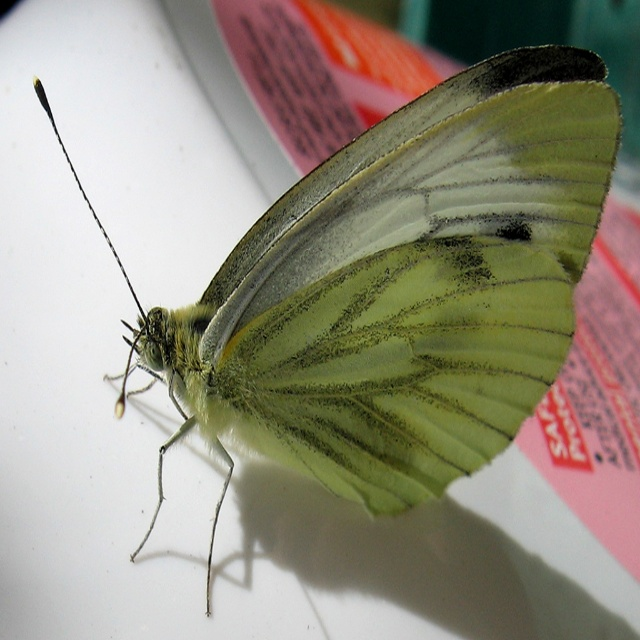Butterfly: (36, 42, 624, 613)
